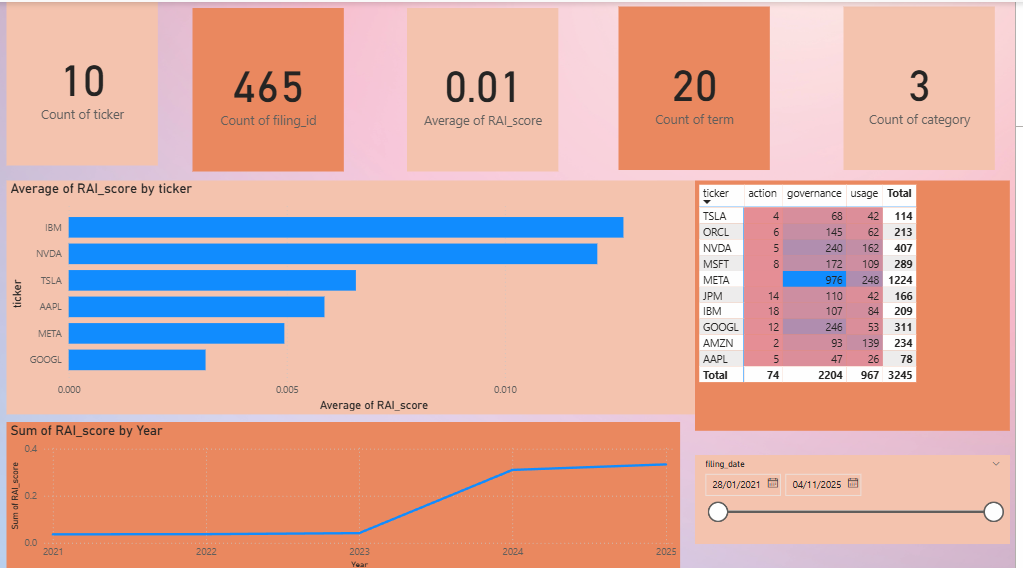

What the dashboard file says about the page in this screenshot:
{"tool":"powerbi","page":{"name":"Overview","canvas":[1280,720],"ordinal":0},"visuals":[{"type":"card","fields":{"Values":["Count(all_counts.ticker)"]},"box":[9.4,0,190.9,206],"z":0},{"type":"card","fields":{"Values":["CountNonNull(all_counts.filing_id)"]},"box":[243.8,7.6,190.9,206],"z":1000},{"type":"card","fields":{"Values":["Avg(dashboard_main.RAI_score)"]},"box":[514,7.6,190.9,206],"z":2000},{"type":"card","fields":{"Values":["Count(all_counts.term)"]},"box":[780.5,5.7,190.9,206],"z":3000},{"type":"card","fields":{"Values":["Count(all_counts.category)"]},"box":[1063.9,5.7,190.9,206],"z":4000},{"type":"barChart","fields":{"Y":["Avg(dashboard_main.RAI_score)"],"Category":["all_snippets.ticker","dashboard_main.RAI_score"]},"box":[9.4,224.9,867.4,294.8],"z":5000},{"type":"lineChart","fields":{"Category":["dashboard_main.filing_date.Variation.Date Hierarchy.Year","dashboard_main.filing_date.Variation.Date Hierarchy.Quarter","dashboard_main.filing_date.Variation.Date Hierarchy.Month","dashboard_main.filing_date.Variation.Date Hierarchy.Day"],"Y":["Sum(dashboard_main.RAI_score)"]},"box":[9.4,529.1,848.5,190.9],"z":6000},{"type":"pivotTable","fields":{"Rows":["dashboard_main.ticker"],"Columns":["all_counts.category"],"Values":["Sum(all_counts.frequency)"]},"box":[876.9,224.9,396.9,315.6],"z":7000},{"type":"slicer","fields":{"Values":["all_counts.filing_date"]},"box":[876.9,570.7,396.9,111.5],"z":8000}]}

Visuals, with their boxes in screenshot pixels (x1, y1, x2, y2), scaled from the page's 1280x720 canvas onto the 1023x568 screenshot:
card - Count(all_counts.ticker): 8:0:160:163
card - CountNonNull(all_counts.filing_id): 195:6:347:169
card - Avg(dashboard_main.RAI_score): 411:6:563:169
card - Count(all_counts.term): 624:4:776:167
card - Count(all_counts.category): 850:4:1003:167
barChart - Avg(dashboard_main.RAI_score) x all_snippets.ticker: 8:177:701:410
lineChart - dashboard_main.filing_date.Variation.Date Hierarchy.Year x dashboard_main.filing_date.Variation.Date Hierarchy.Quarter: 8:417:686:567
pivotTable - dashboard_main.ticker x all_counts.category: 701:177:1018:426
slicer - all_counts.filing_date: 701:450:1018:538
